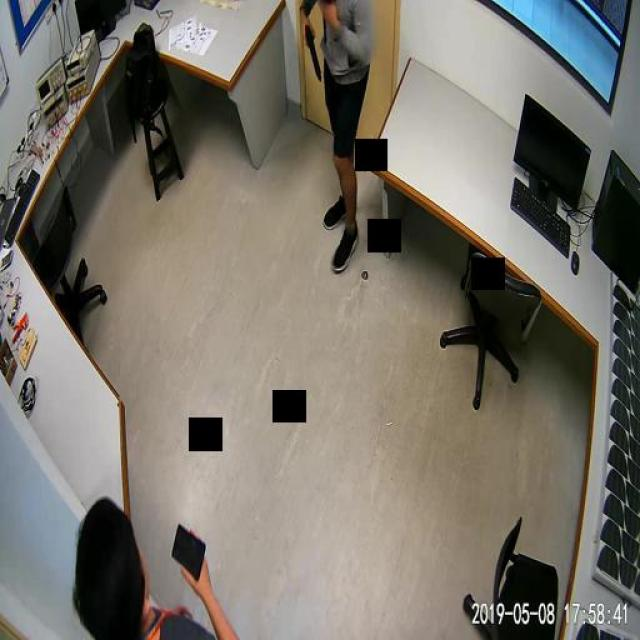gun: (300, 23, 320, 78)
